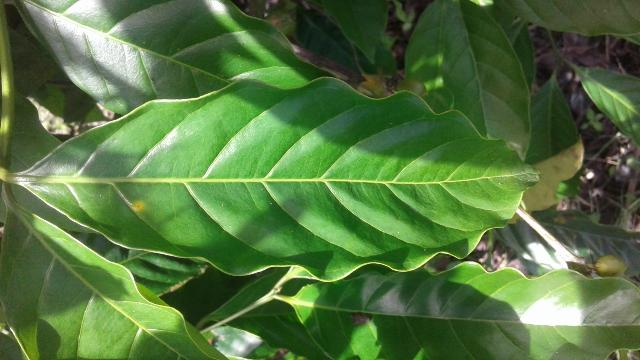rust_level_1: (13, 75, 540, 283)
